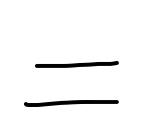eqv: (23, 57, 125, 109)
